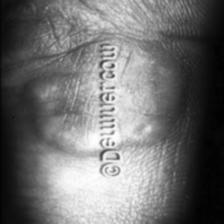Unclassified: (21, 0, 95, 162), (122, 0, 178, 175)
